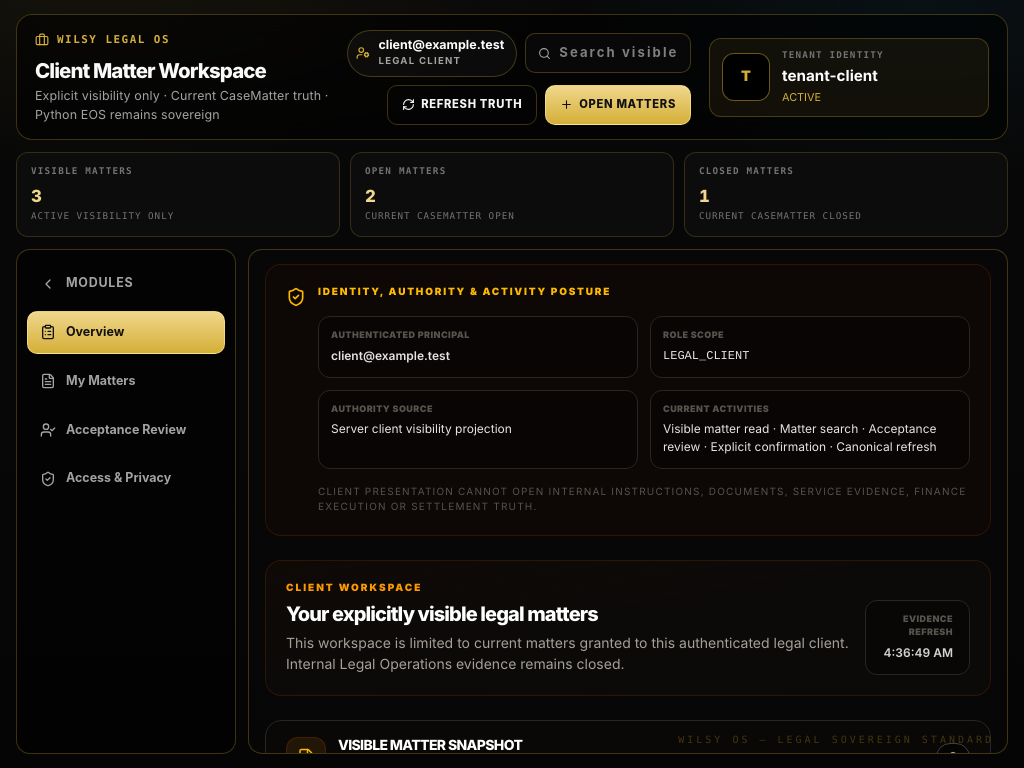
Test: L8-7D8 governed Legal Operations cockpit › filters only already-visible sanitized matters through workspace search
Type "CLIENT-002" into the field named "Workspace search" at (619, 53), box [559,43,678,63]
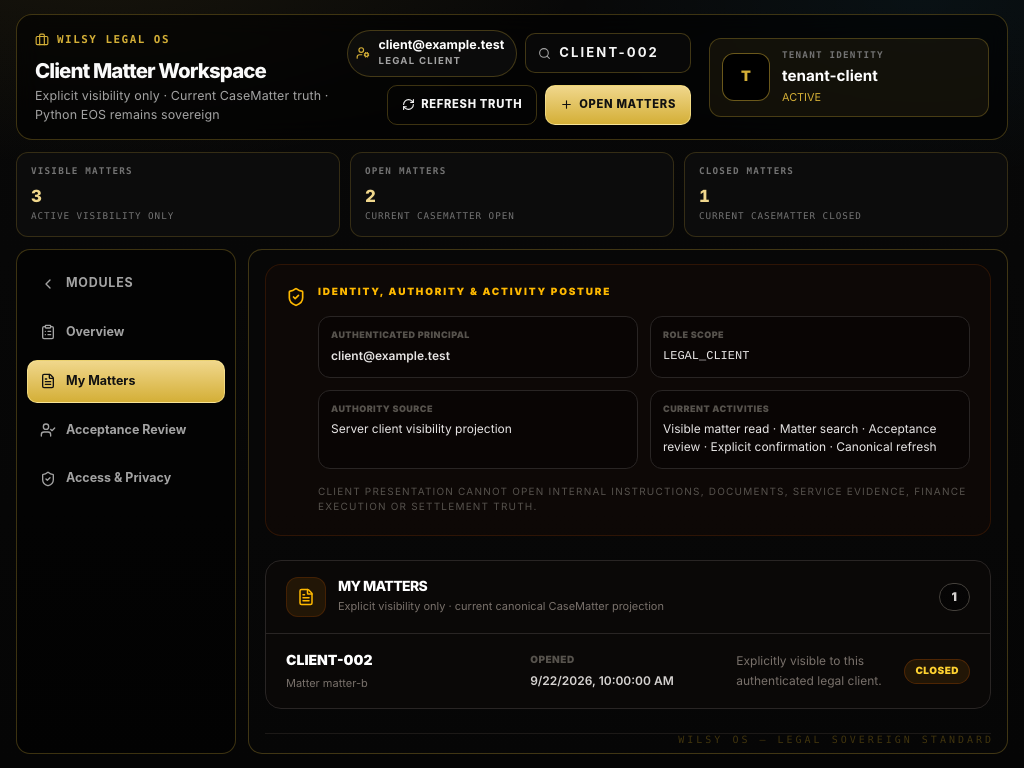
Result: the heading "My matters" is shown at [338,578,427,595]
Result: the text "CLIENT-002" is shown at [286,652,373,669]
